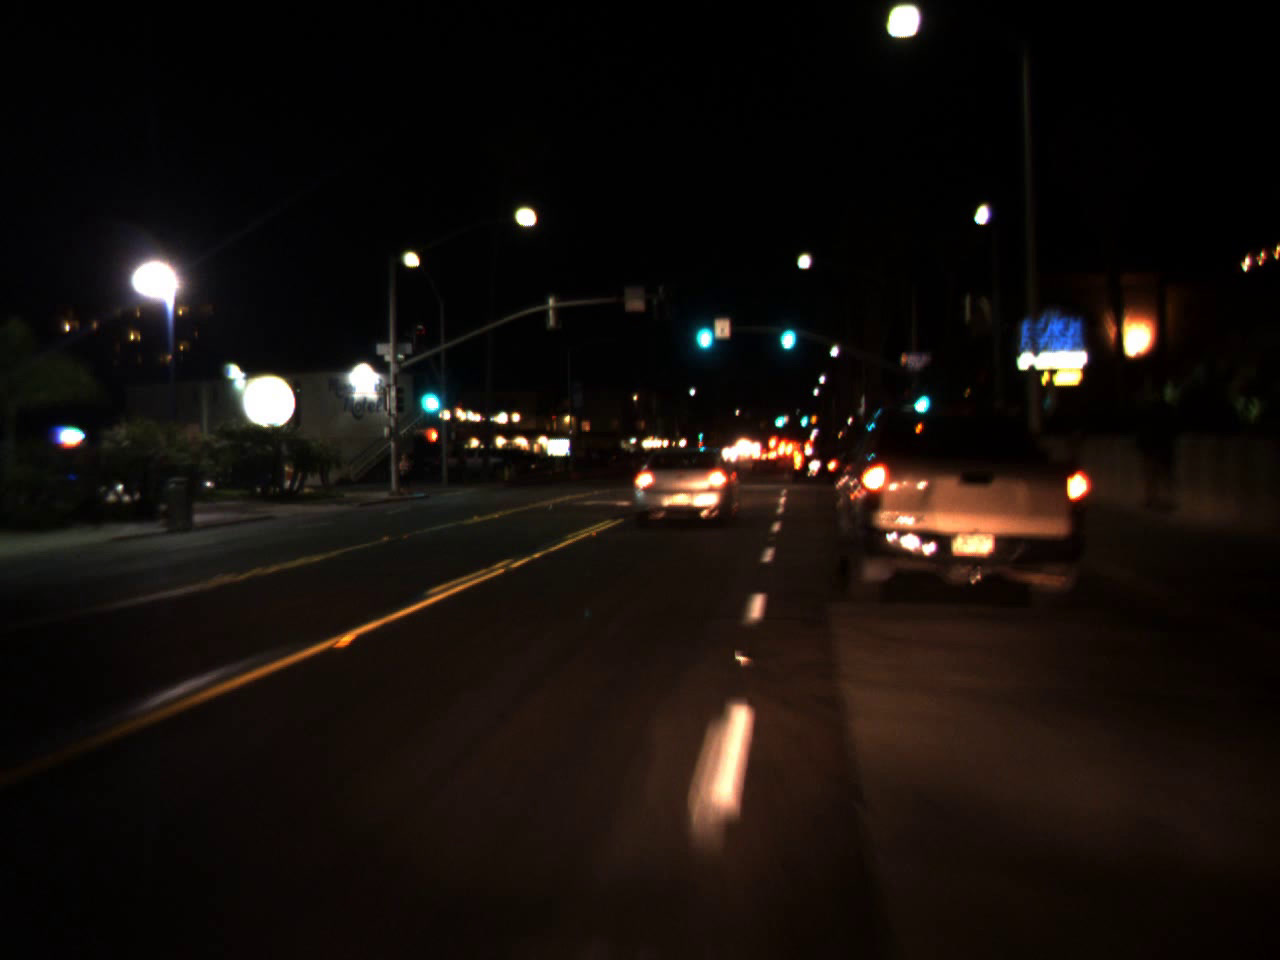go: (413, 367, 445, 421), (689, 301, 716, 357), (904, 377, 934, 419), (775, 305, 798, 356), (772, 406, 786, 427), (798, 406, 808, 427), (696, 426, 703, 441)
